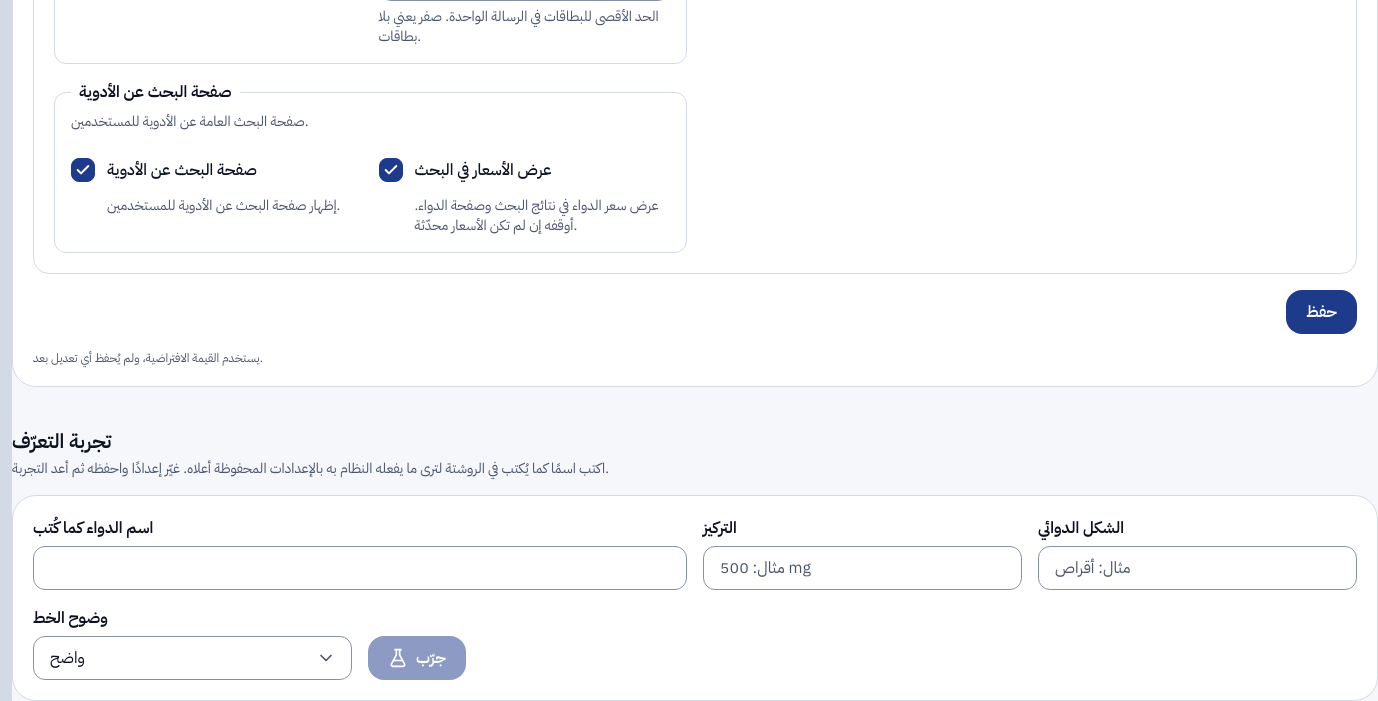
Test: DrugRecognitionView: sandbox › says so when nothing is close
(page scrolled)
Type "zzz" into the field labelled "اسم الدواء كما كُتب".
click(360, 568); type("zzz")  # box 33,546 -> 687,590
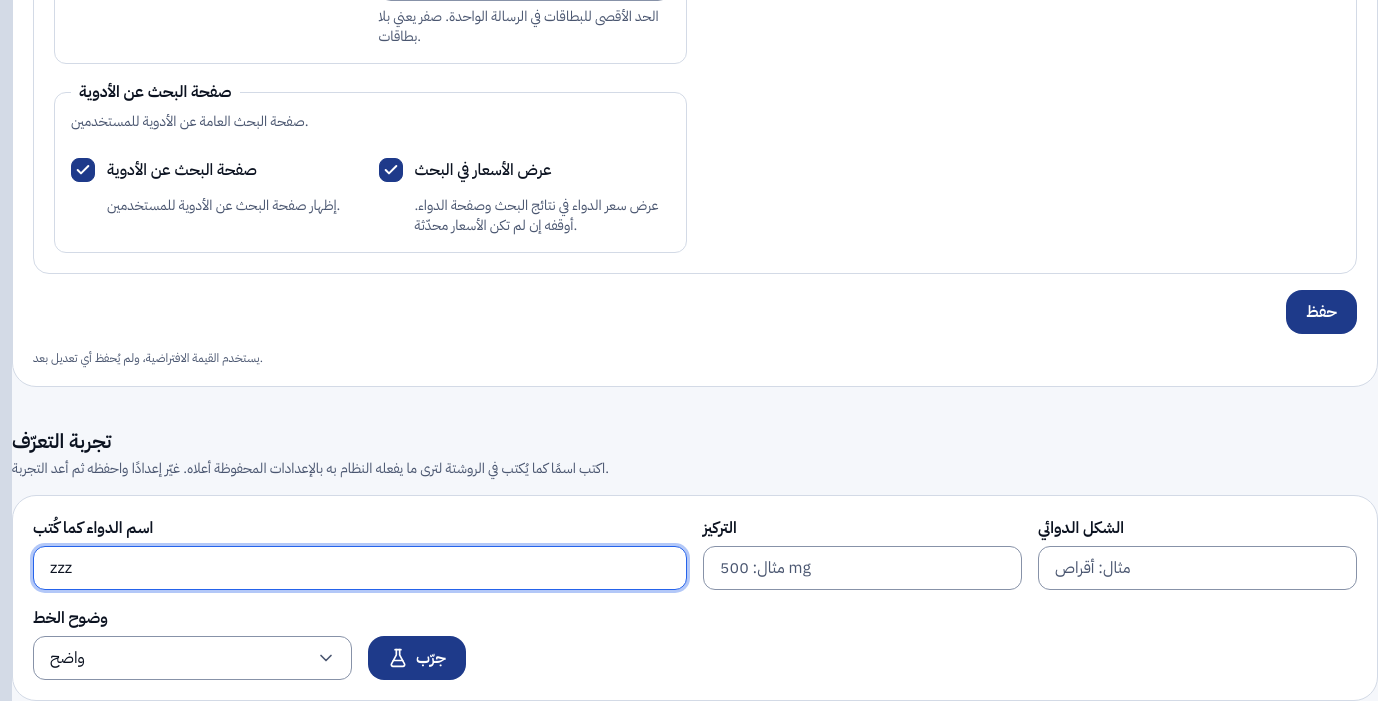
Click the button "جرّب".
click(417, 658)  # box 368,636 -> 466,680
(page scrolled)
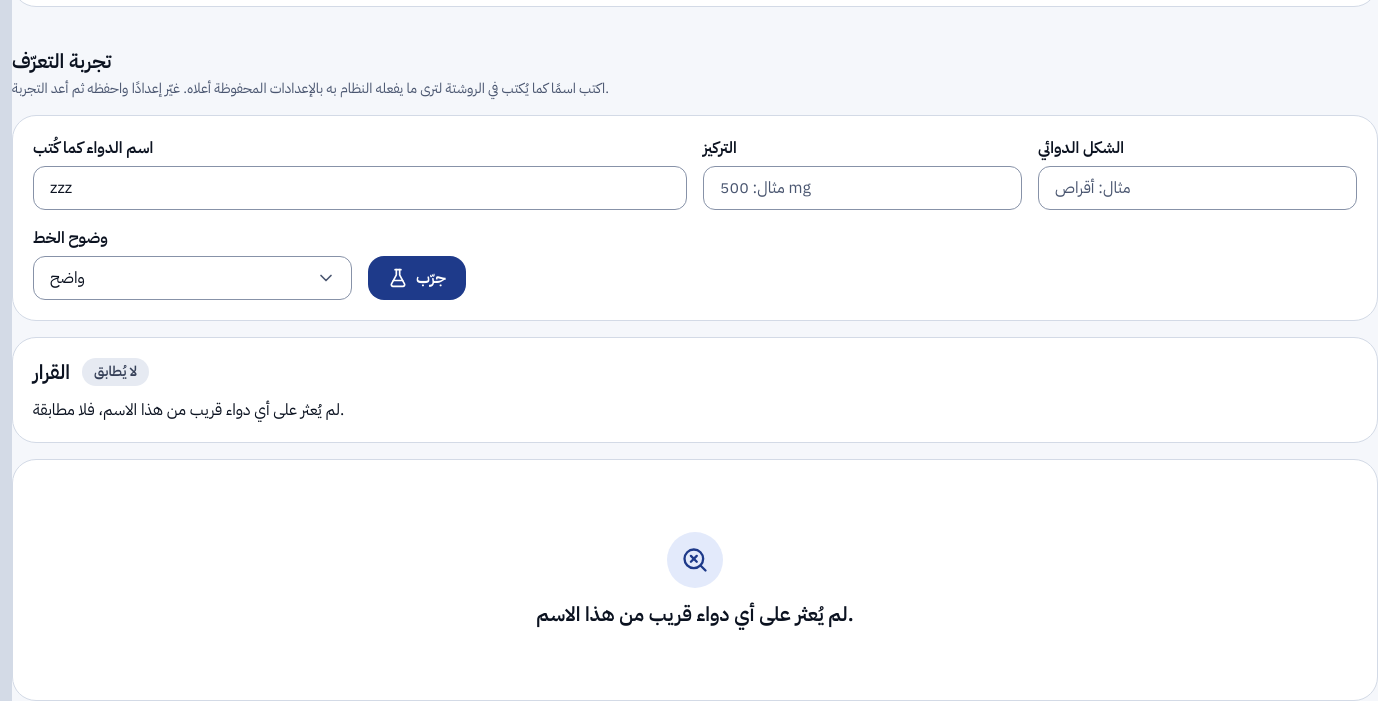
Expected: the heading "لم يُعثر على أي دواء قريب من هذا الاسم." is shown, 536,600 -> 854,628
Expected: the text "لا يُطابق" is shown, 82,358 -> 149,386
